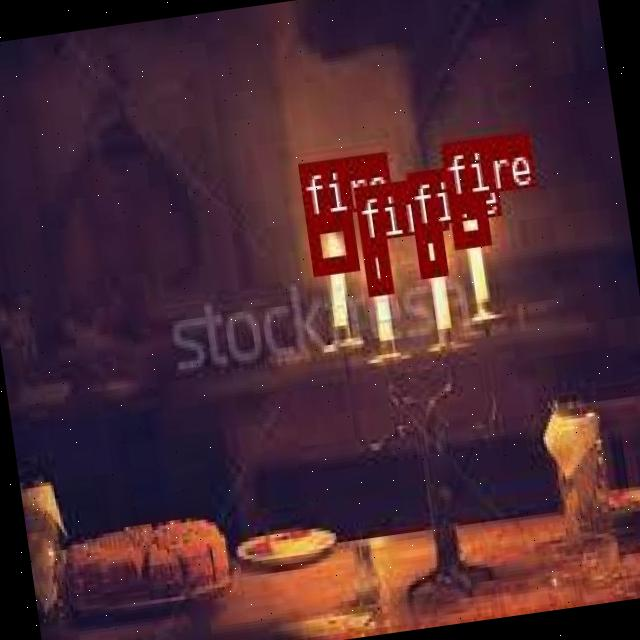fire: (305, 213, 356, 274), (447, 192, 487, 244), (412, 222, 446, 276), (362, 237, 391, 294)
